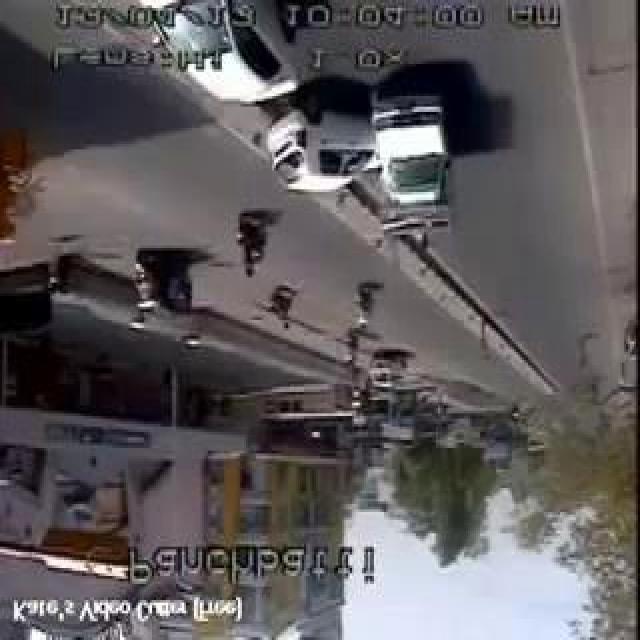moderate: (262, 85, 454, 238)
